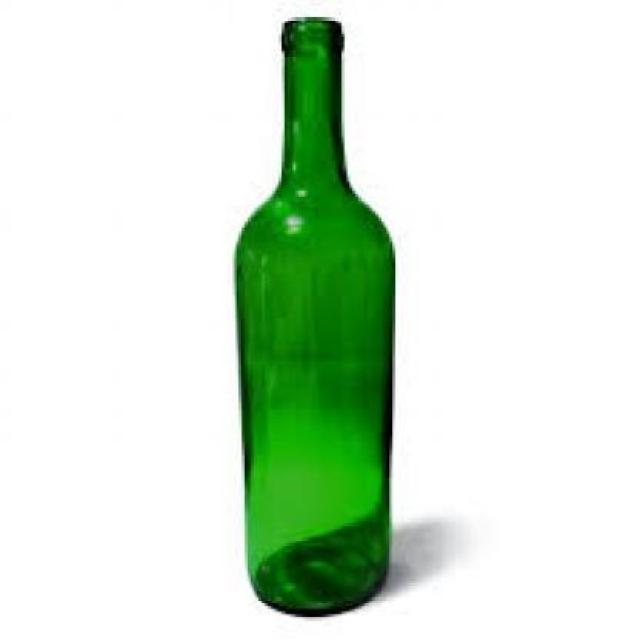GLASS: (233, 18, 393, 612)
